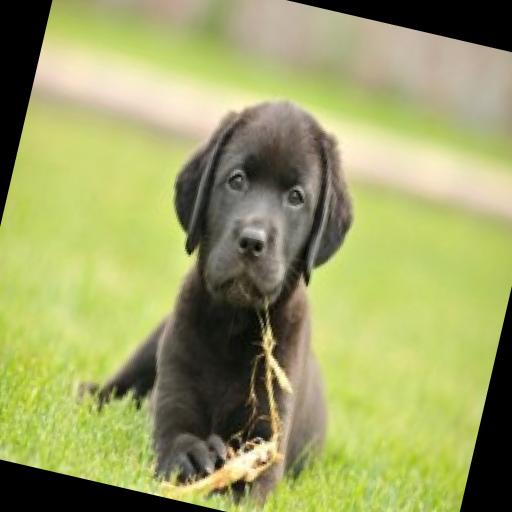dog: (52, 63, 409, 512)
